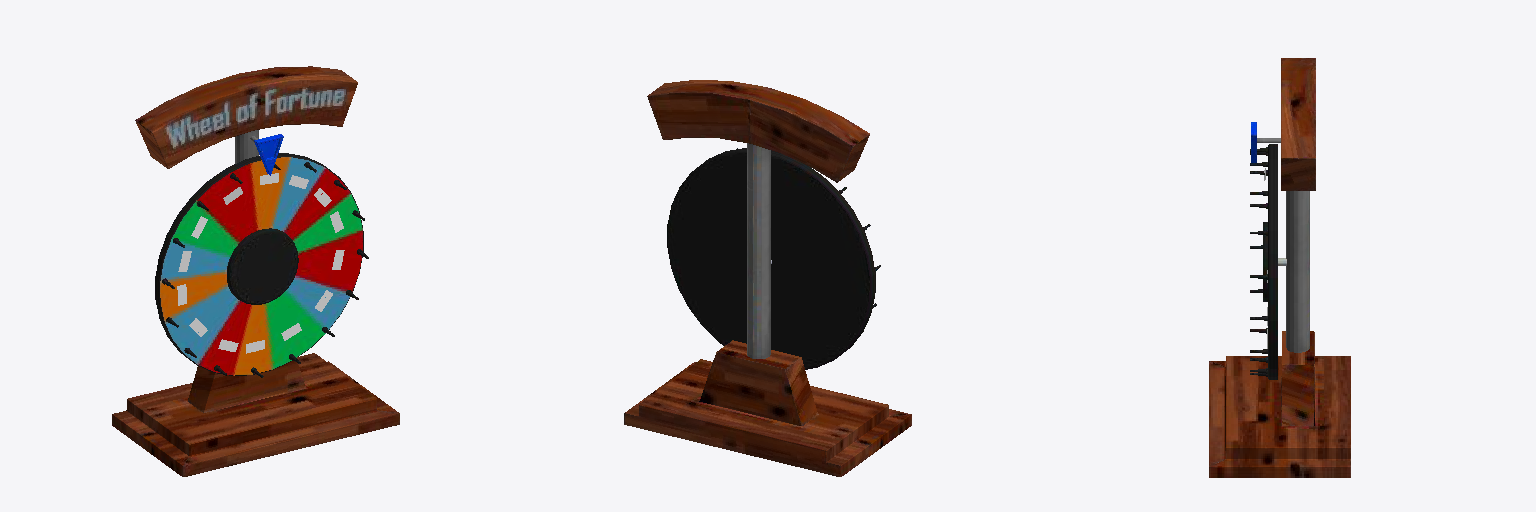
3 views of the same model, side by side, from view 1: azimuth 30°, elevation 25°; view 2: azimuth 150°, elevation 25°; view 3: azimuth 270°, elevation 25° (orthographic).
Visible parts, largest first — view 1: obj17, obj1, obj16; view 2: obj17, obj1; view 3: obj17, obj1.
Part boxes in pixels (bbox=[...]): obj17: bbox=[112, 66, 399, 476]; obj1: bbox=[155, 153, 368, 377]; obj16: bbox=[250, 134, 283, 175]; obj17: bbox=[624, 80, 911, 476]; obj1: bbox=[667, 148, 880, 369]; obj17: bbox=[1209, 58, 1350, 477]; obj1: bbox=[1250, 144, 1277, 379].
Bounding box in the file's own units: 5.7 × 8.51 × 3.23.
2 materials, 1 textured.